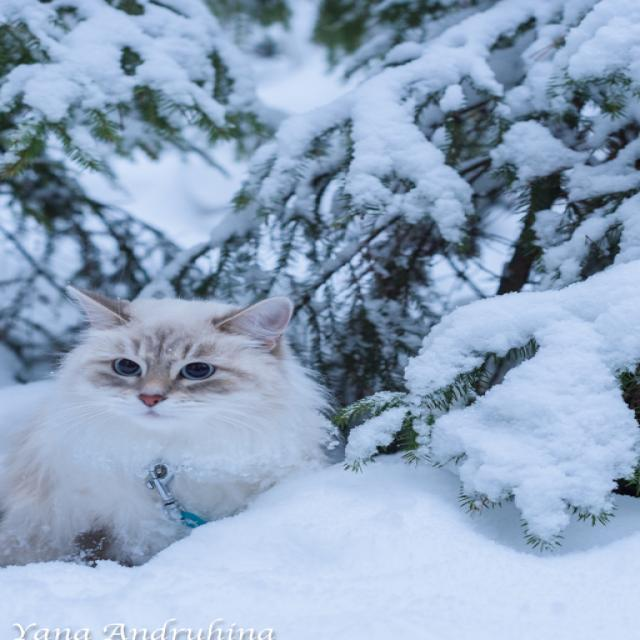Neva Masquerade: (0, 280, 339, 572)
